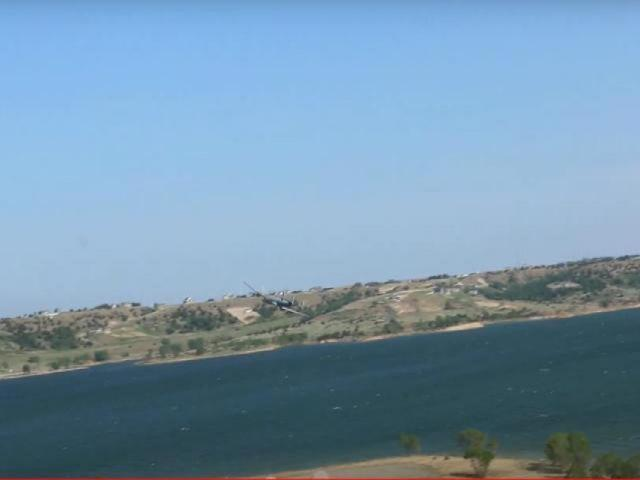iha: (246, 276, 308, 319)
